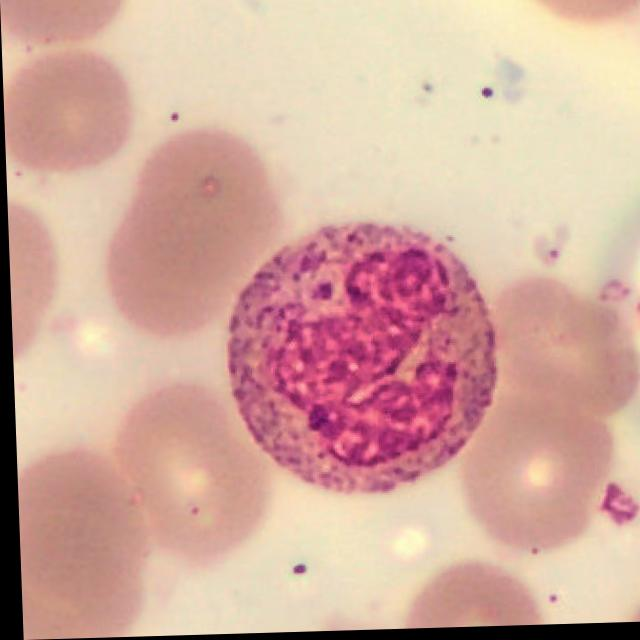Neutrofilo segmentado: (225, 225, 494, 497)
